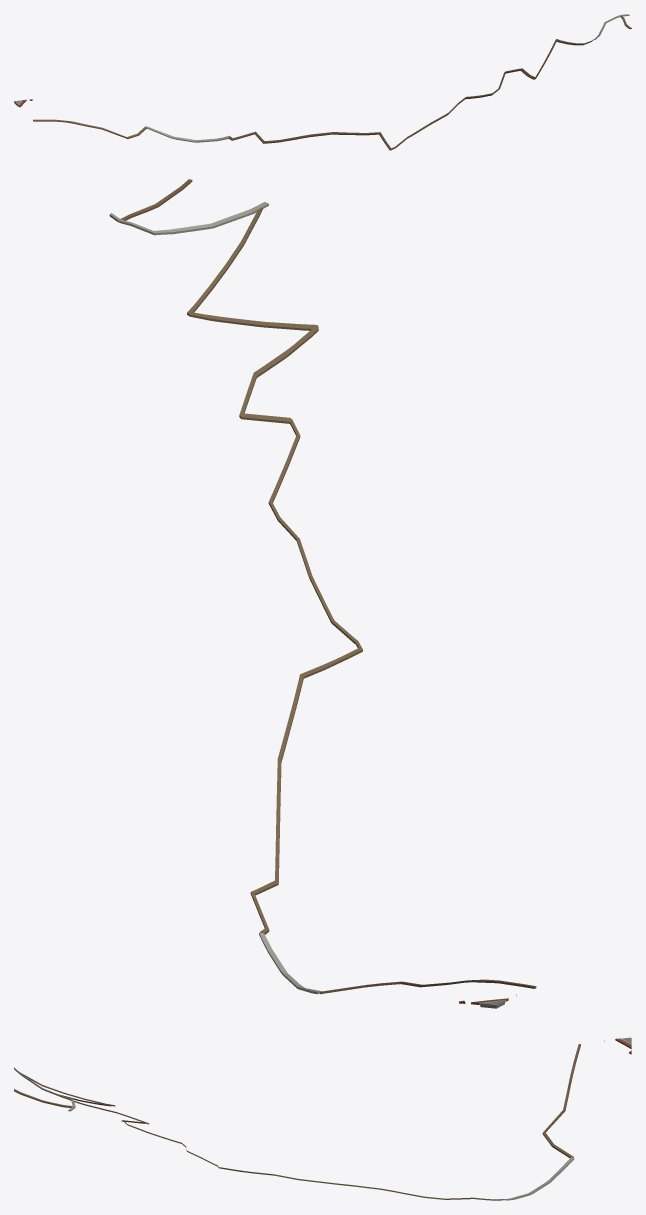
3 views of the same model, one above another, from view 1: azimuth 30°, elevation 25°; view 2: azimuth 150°, elevation 25°; view 3: azimuth 270°, elevation 25° (orthographic). The views are drawn at different scales.
Bounding box in the file's own units: 294 × 137 × 292.
